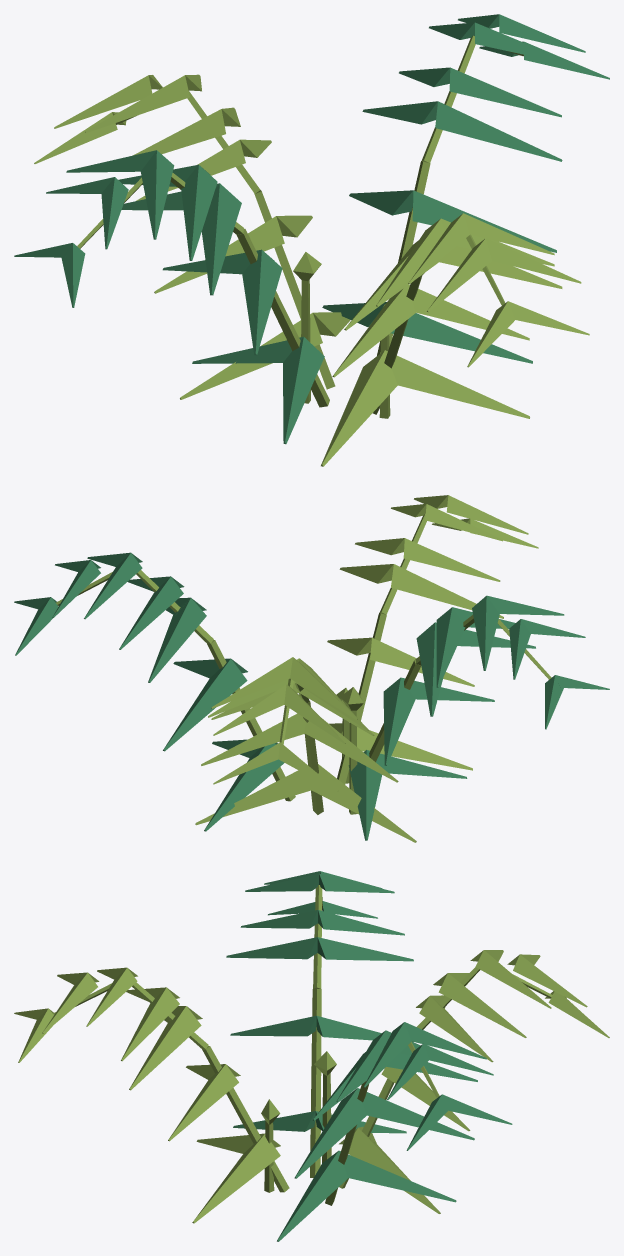
Rendered from bracken_c.glb.
The picture shows the model from 3 angles, top to bottom: view 1: azimuth 30°, elevation 25°; view 2: azimuth 150°, elevation 25°; view 3: azimuth 270°, elevation 25°; orthographic projection. The views are drawn at different scales.
Visible parts, largest first — view 1: BrackenC; view 2: BrackenC; view 3: BrackenC.
Part boxes in pixels (x1,y1,x2,y2): BrackenC: (14, 14, 609, 466); BrackenC: (14, 495, 609, 842); BrackenC: (14, 871, 609, 1241).
Size of the model in its own units: 2.11 by 0.9538 by 2.14.
